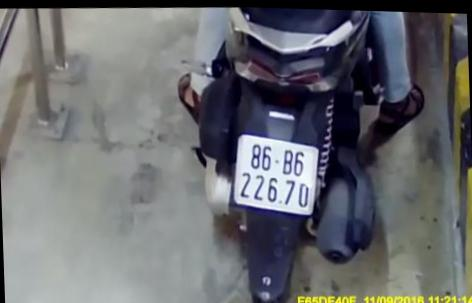LP: (234, 131, 321, 215)
